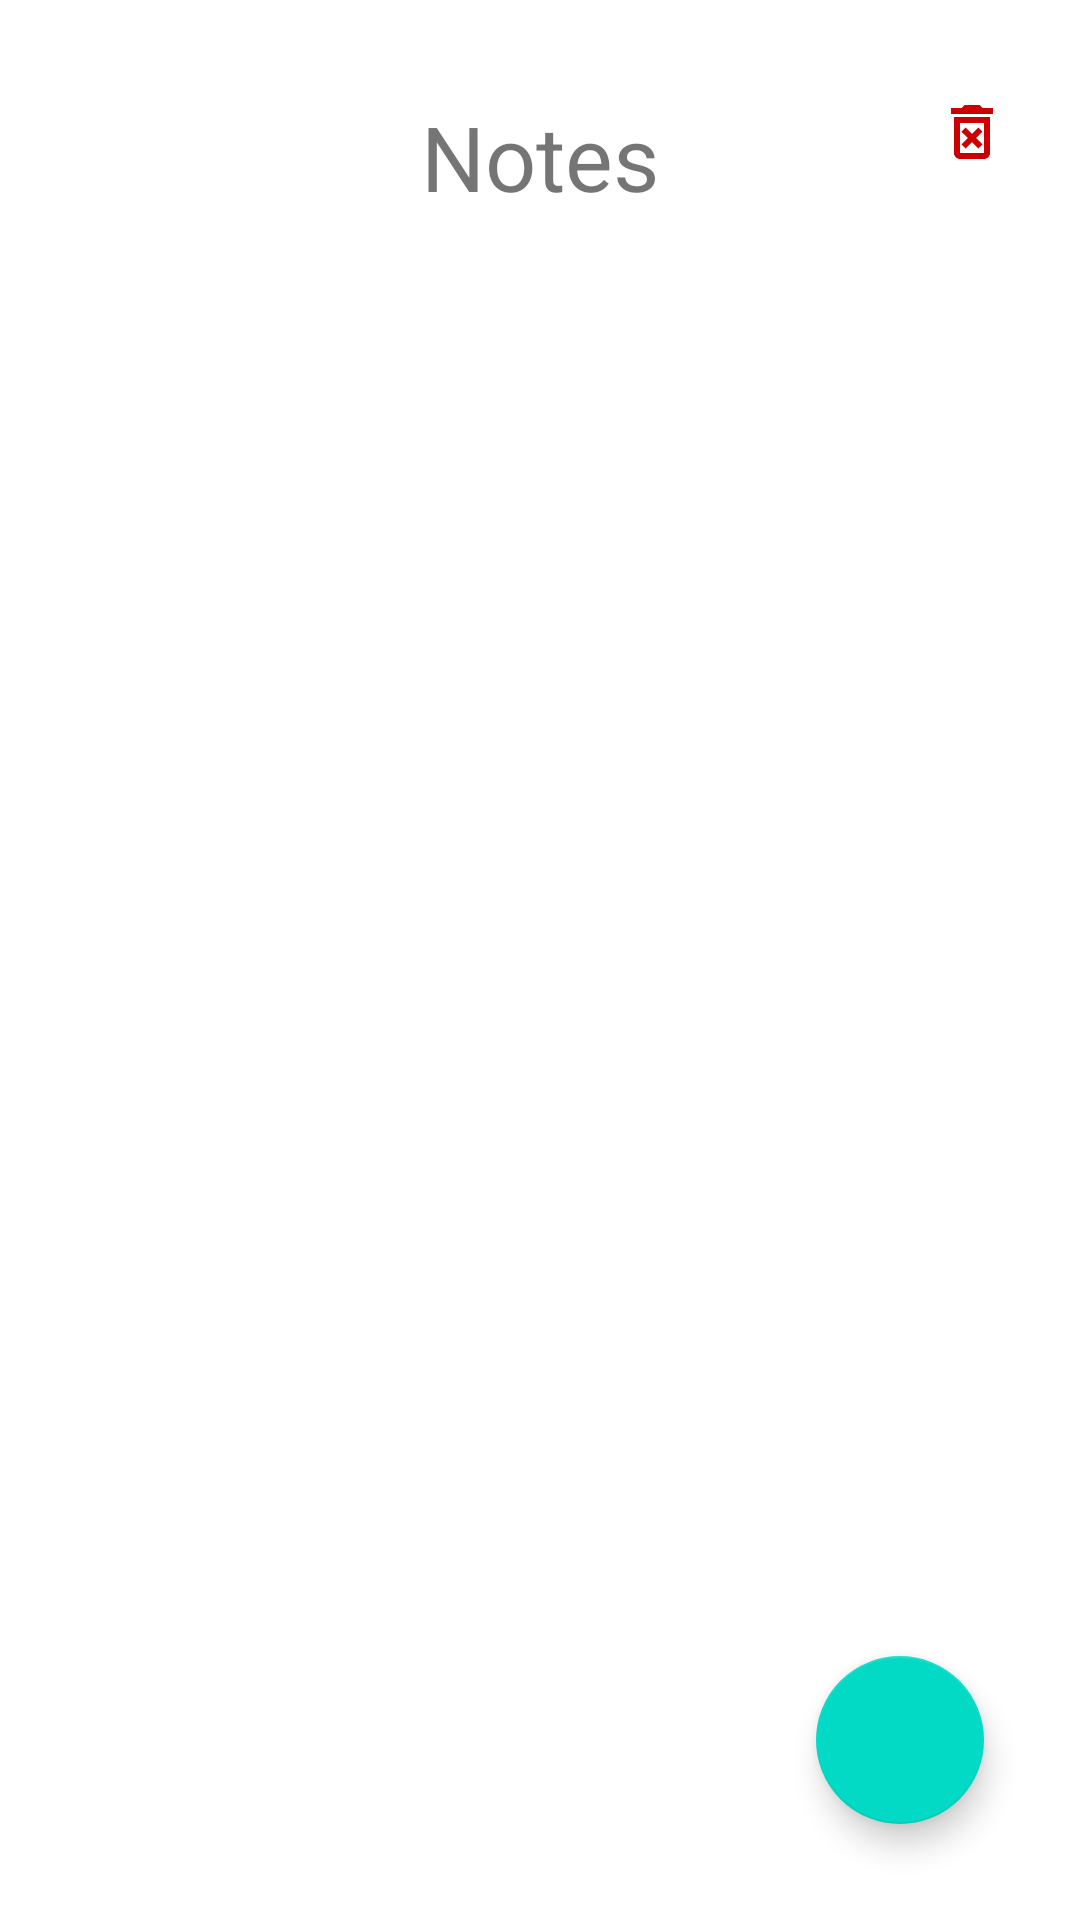

Icon bounding boxes for this 1080w x 1920h phone screenshot, format (x1, y1, x2, y2):
delete forever: (951, 105, 993, 159)
